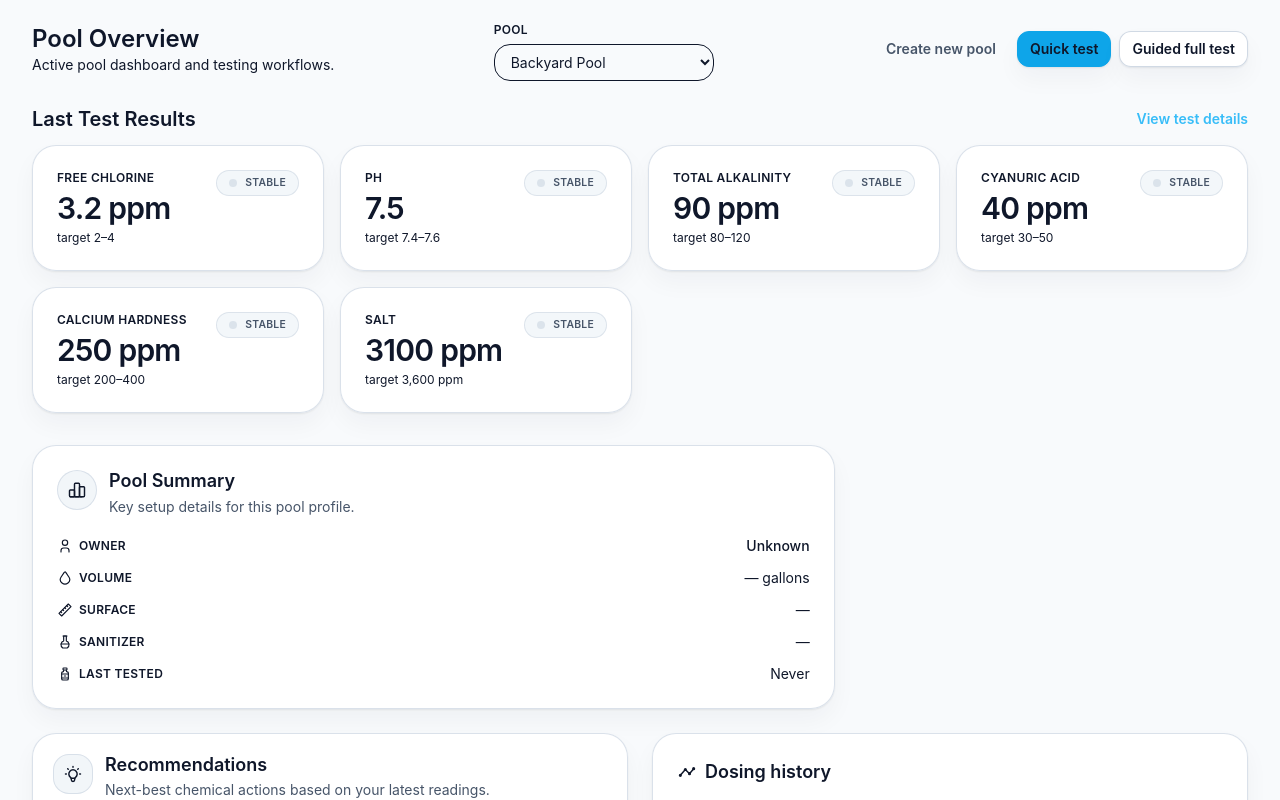
overview page › opens the quick test dialog from the overview page
The image size is (1280, 800).
What coordinates should you click on to do the following:
click the button "Quick test"
I would click on:
 (1064, 48)
Its box is [1017, 30, 1111, 66].
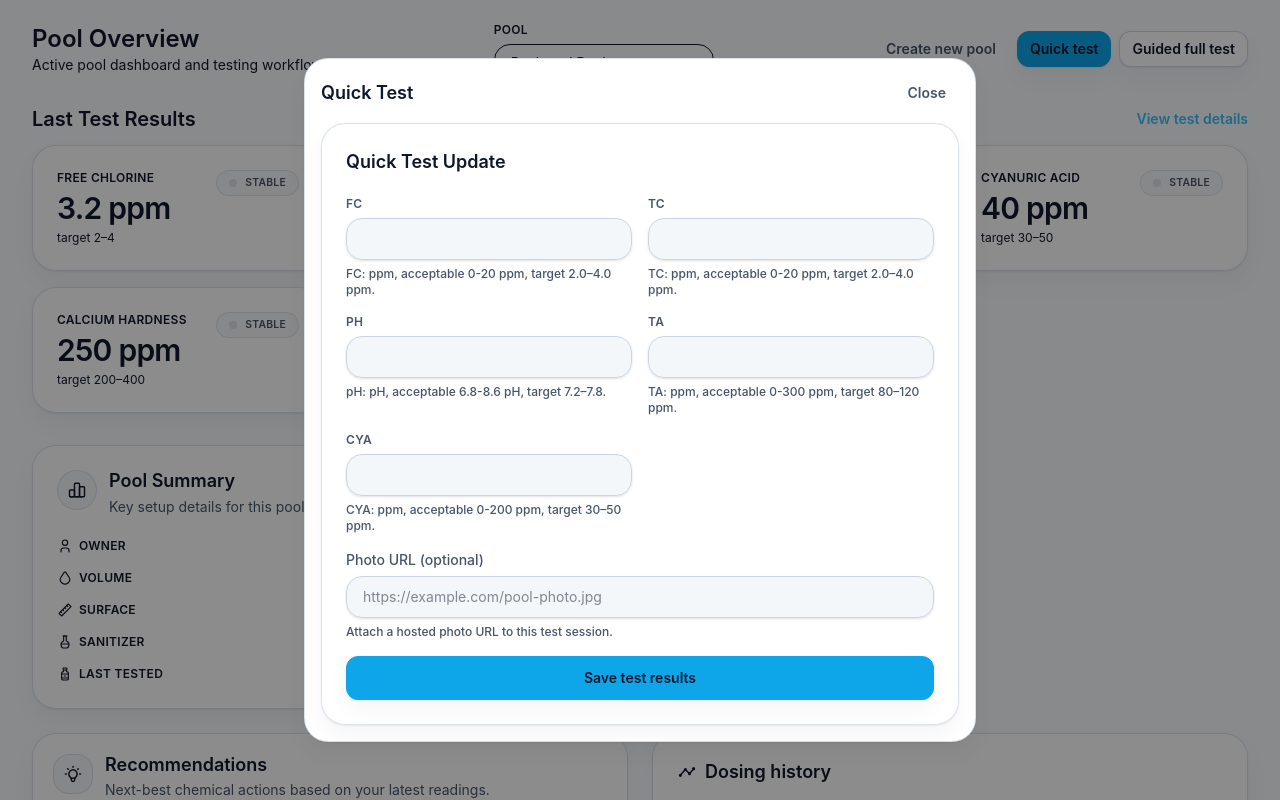
Check: the dialog named "quick test dialog" is shown
